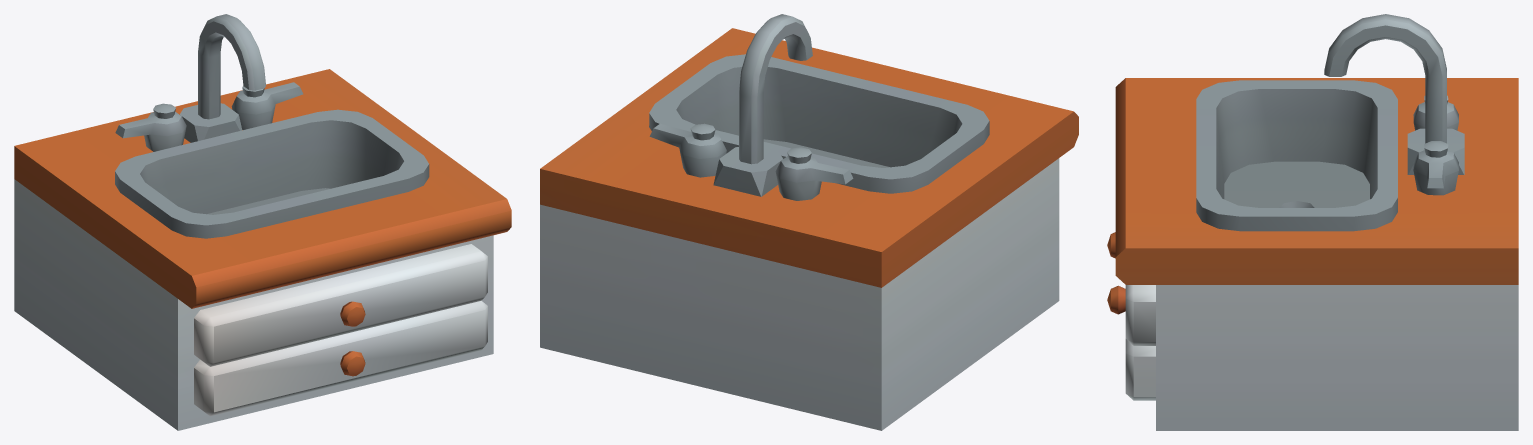
File: kkr.kitchencounter_sink.glb
3 views of the same model, side by side, from view 1: azimuth 30°, elevation 25°; view 2: azimuth 150°, elevation 25°; view 3: azimuth 270°, elevation 25° (orthographic). The views are drawn at different scales.
Parts seen in each view (by area): view 1: kitchencounter_sink; view 2: kitchencounter_sink; view 3: kitchencounter_sink.
Part boxes in pixels (bbox=[...]): kitchencounter_sink: bbox=[14, 14, 511, 430]; kitchencounter_sink: bbox=[540, 14, 1078, 430]; kitchencounter_sink: bbox=[1107, 14, 1518, 430].
Size of the model in its own units: 1.49 by 1.34 by 1.52.
Materials: 1 (1 with a texture image).
